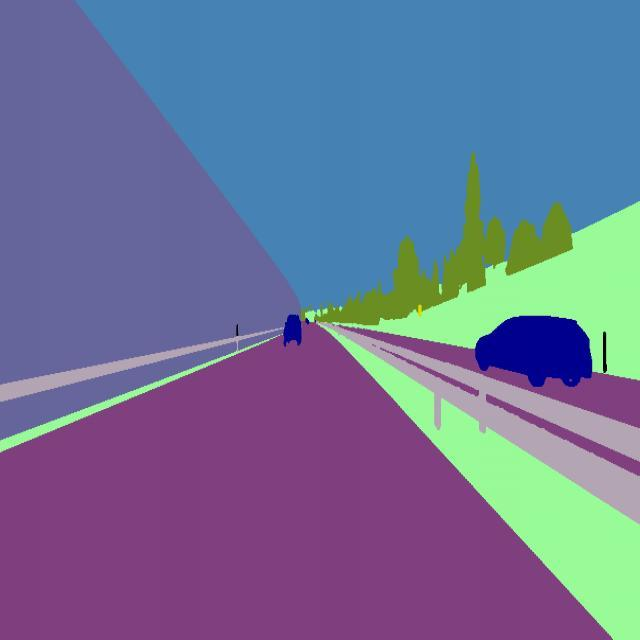safe: (472, 312, 596, 393), (282, 310, 304, 352)
